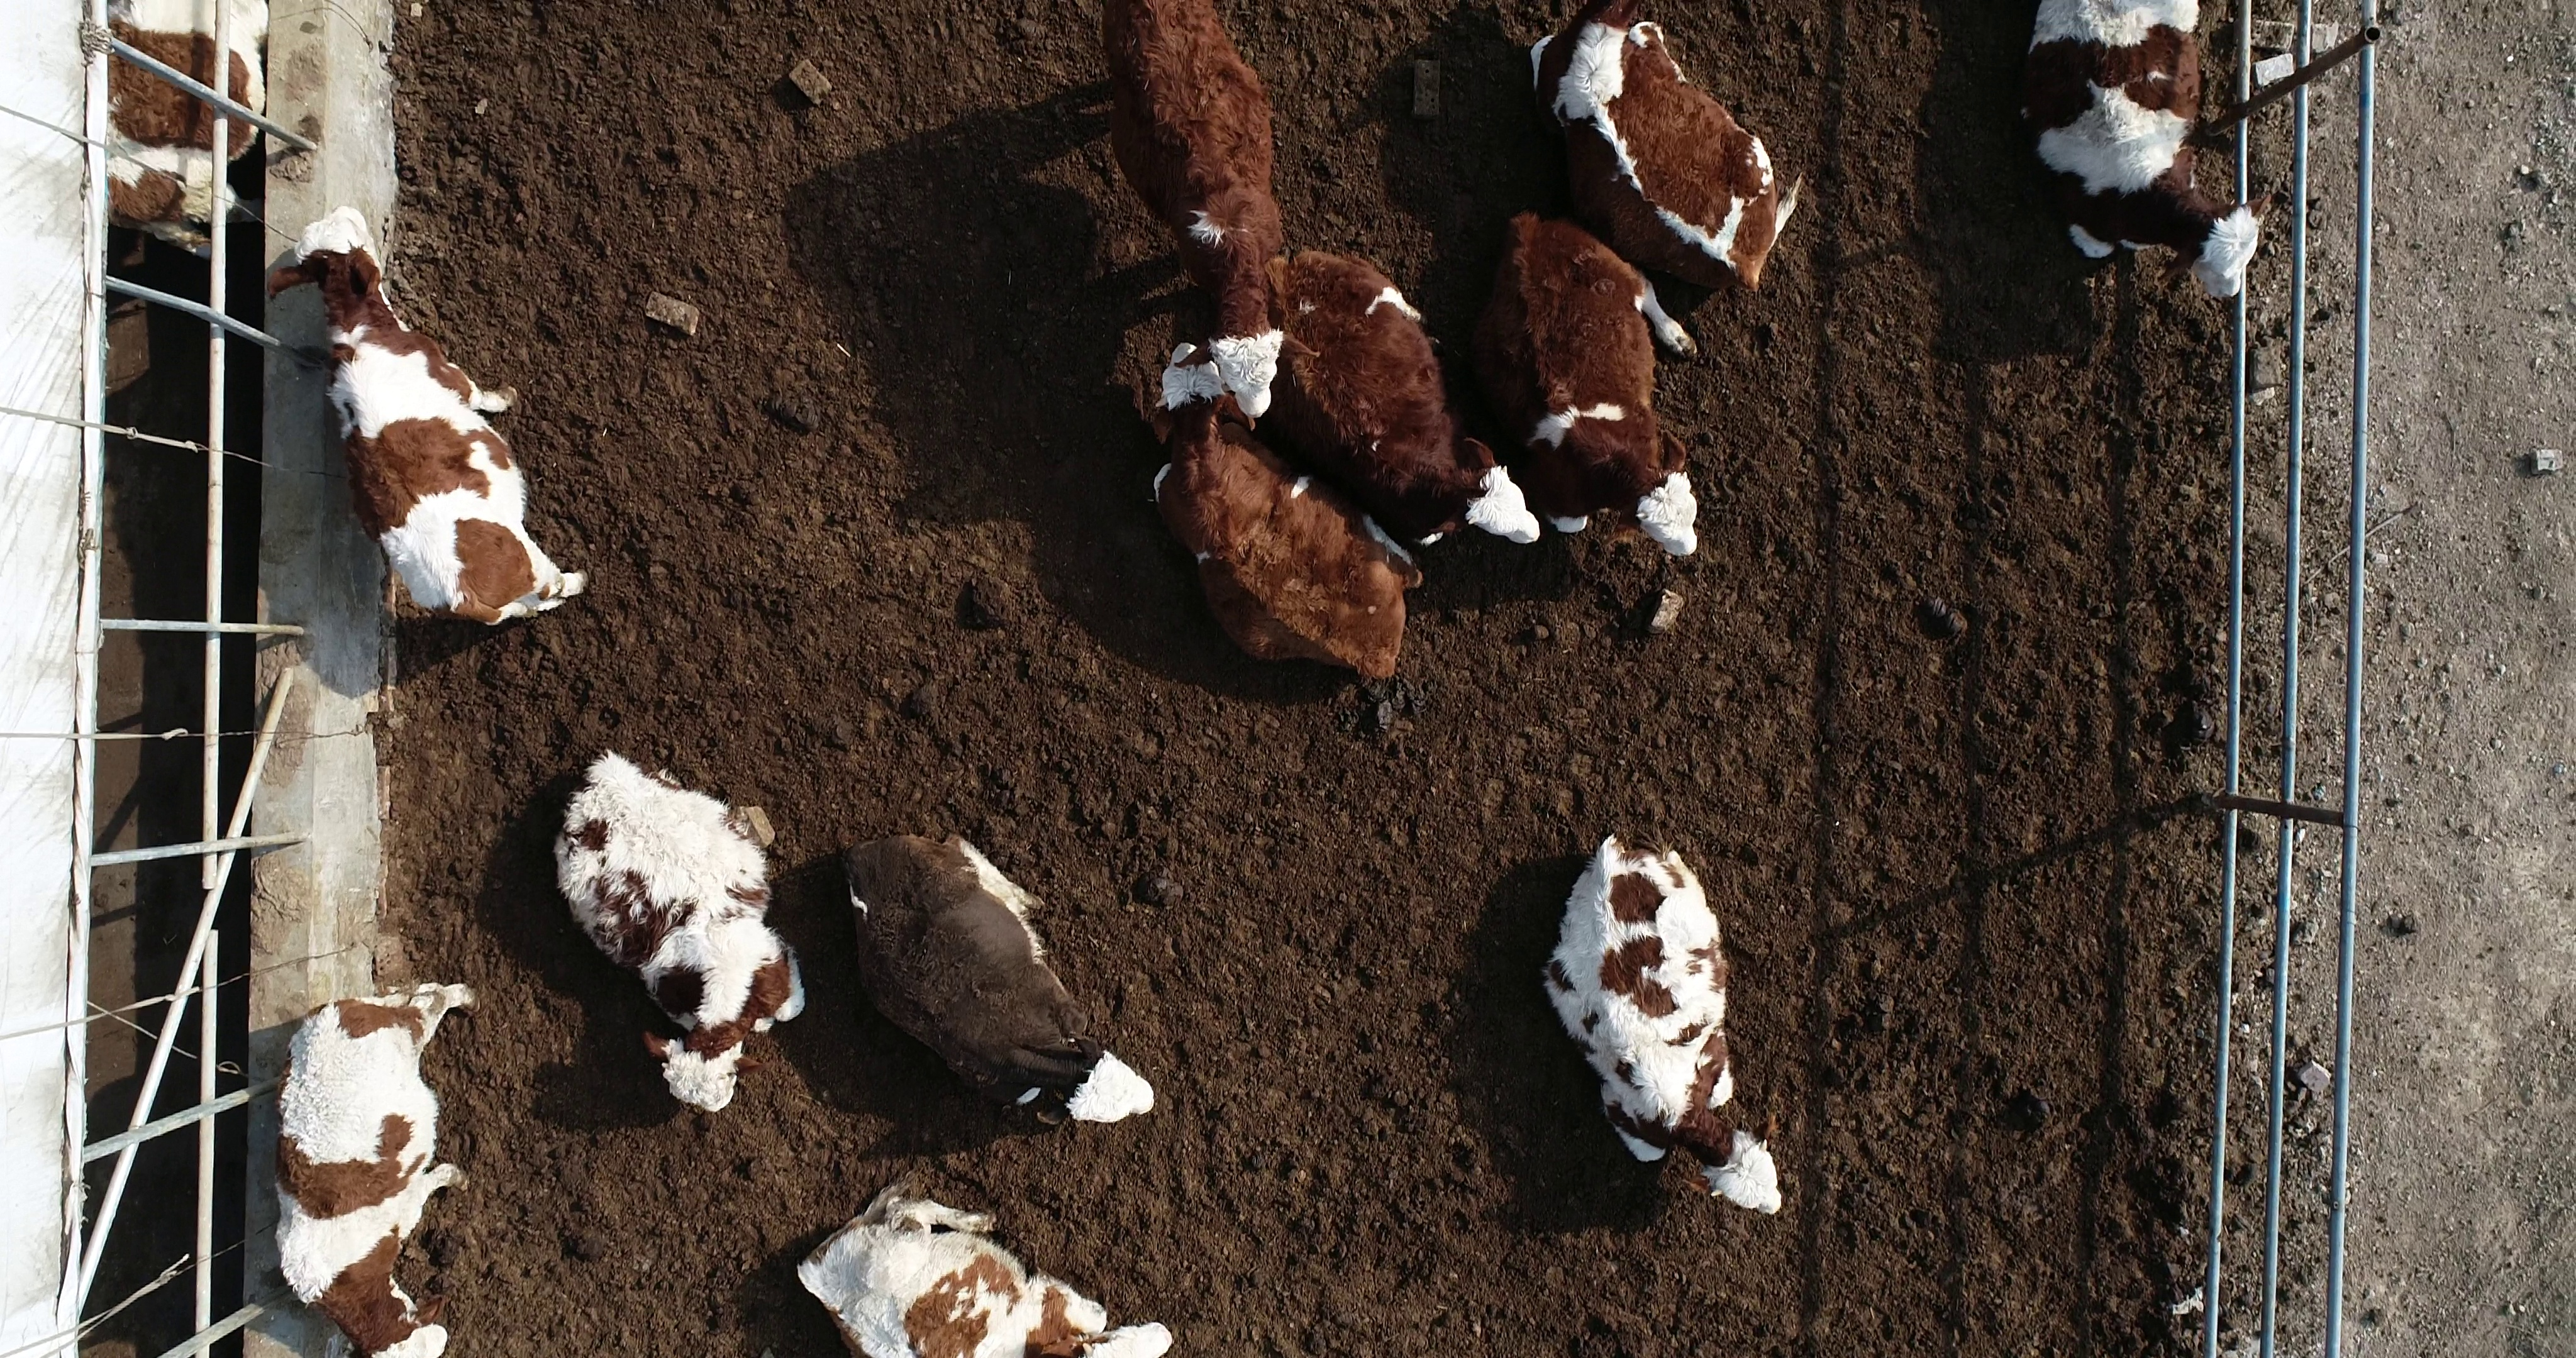cattle: (259, 199, 595, 630), (1535, 825, 1787, 1218), (1145, 339, 1431, 683), (835, 825, 1159, 1128), (545, 743, 809, 1114), (1453, 210, 1722, 562), (266, 976, 494, 1358)
